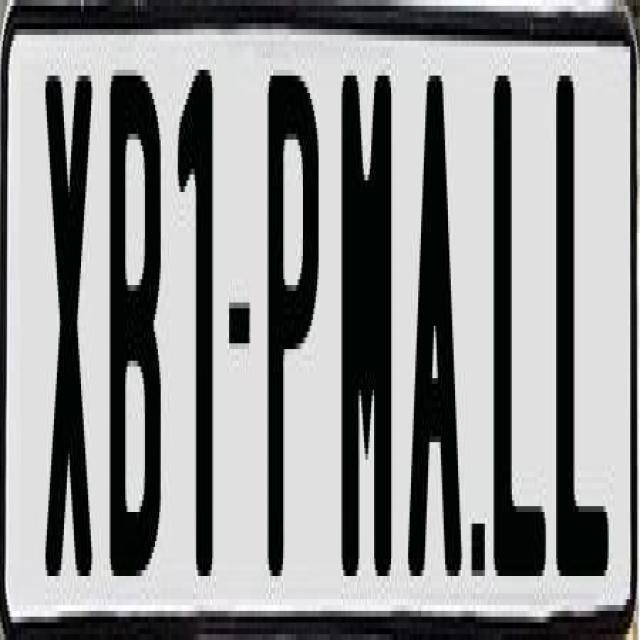1: (176, 70, 212, 576)
A: (406, 70, 466, 594)
B: (106, 75, 156, 588)
L: (553, 58, 613, 594), (490, 64, 550, 570)
M: (338, 76, 392, 600)
P: (266, 76, 317, 612)
X: (41, 58, 94, 582)
